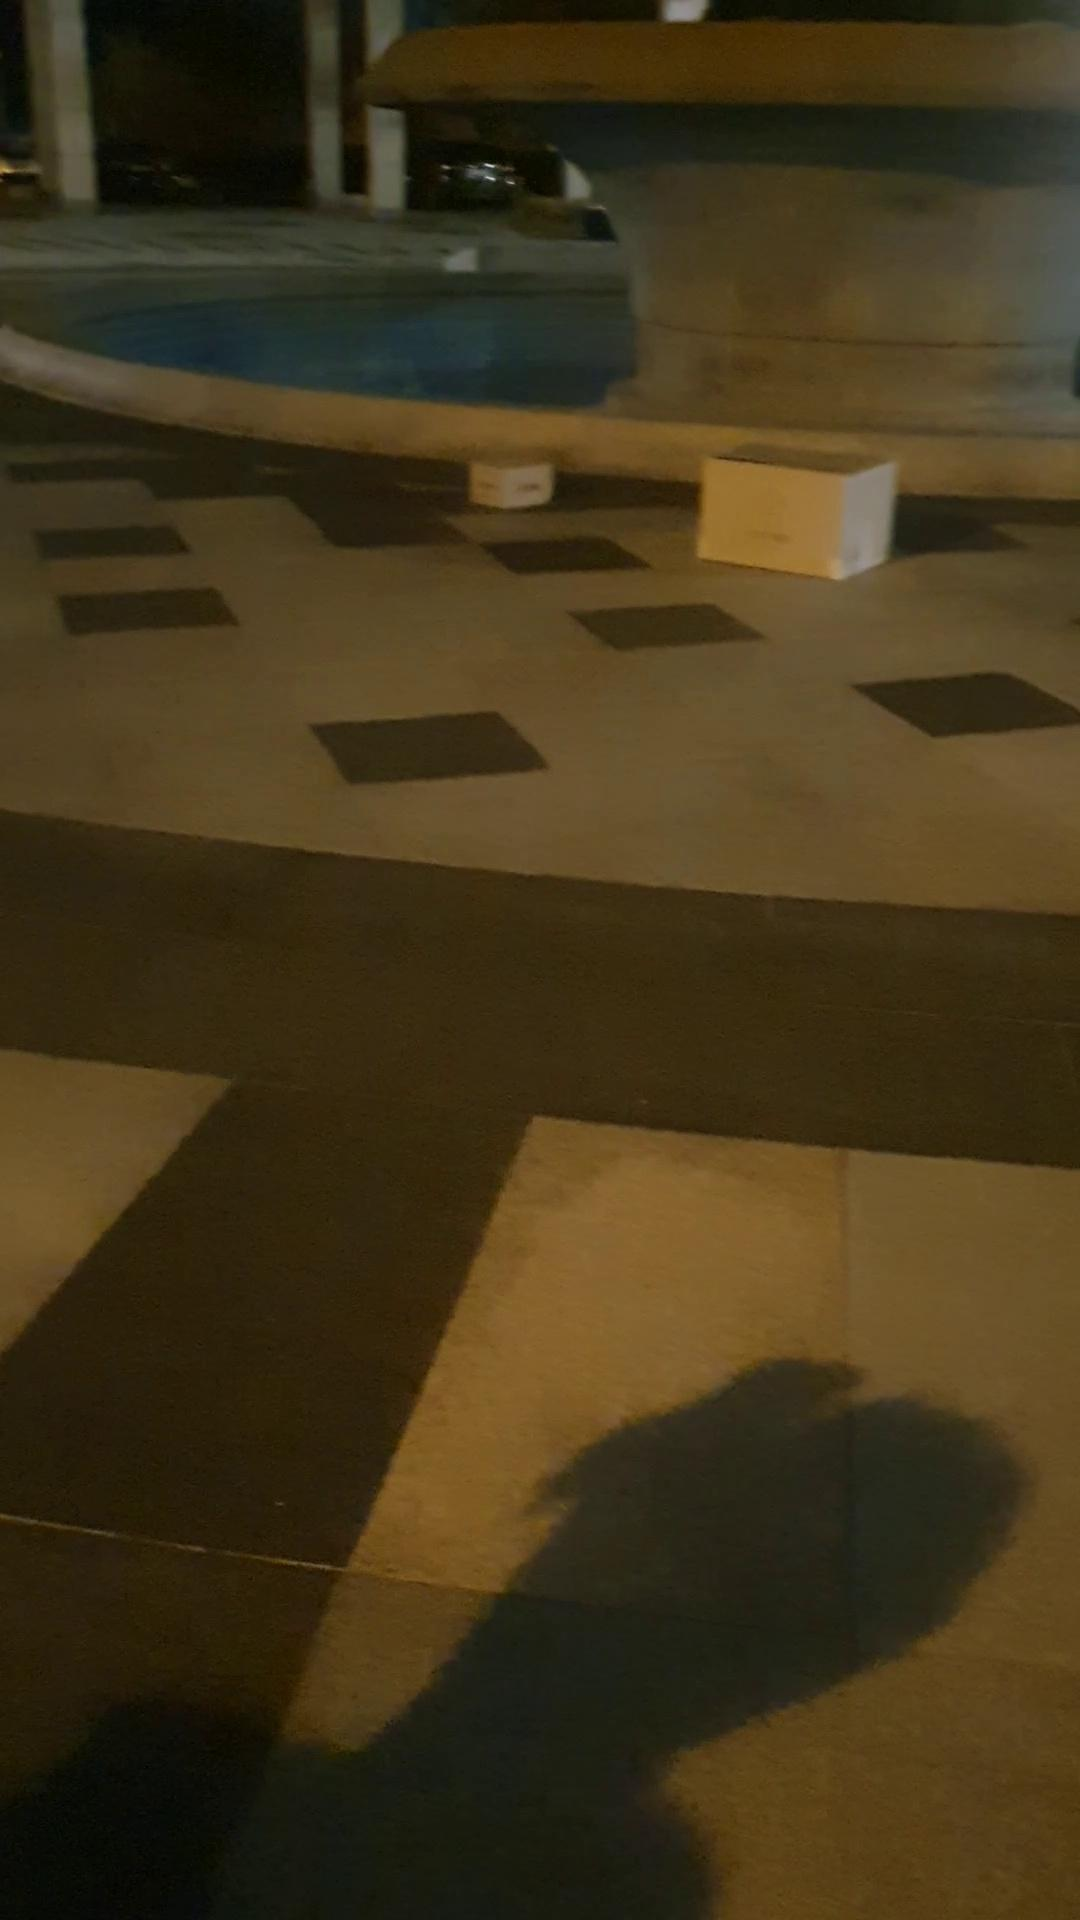Box: (686, 440, 895, 587), (463, 443, 560, 510)
